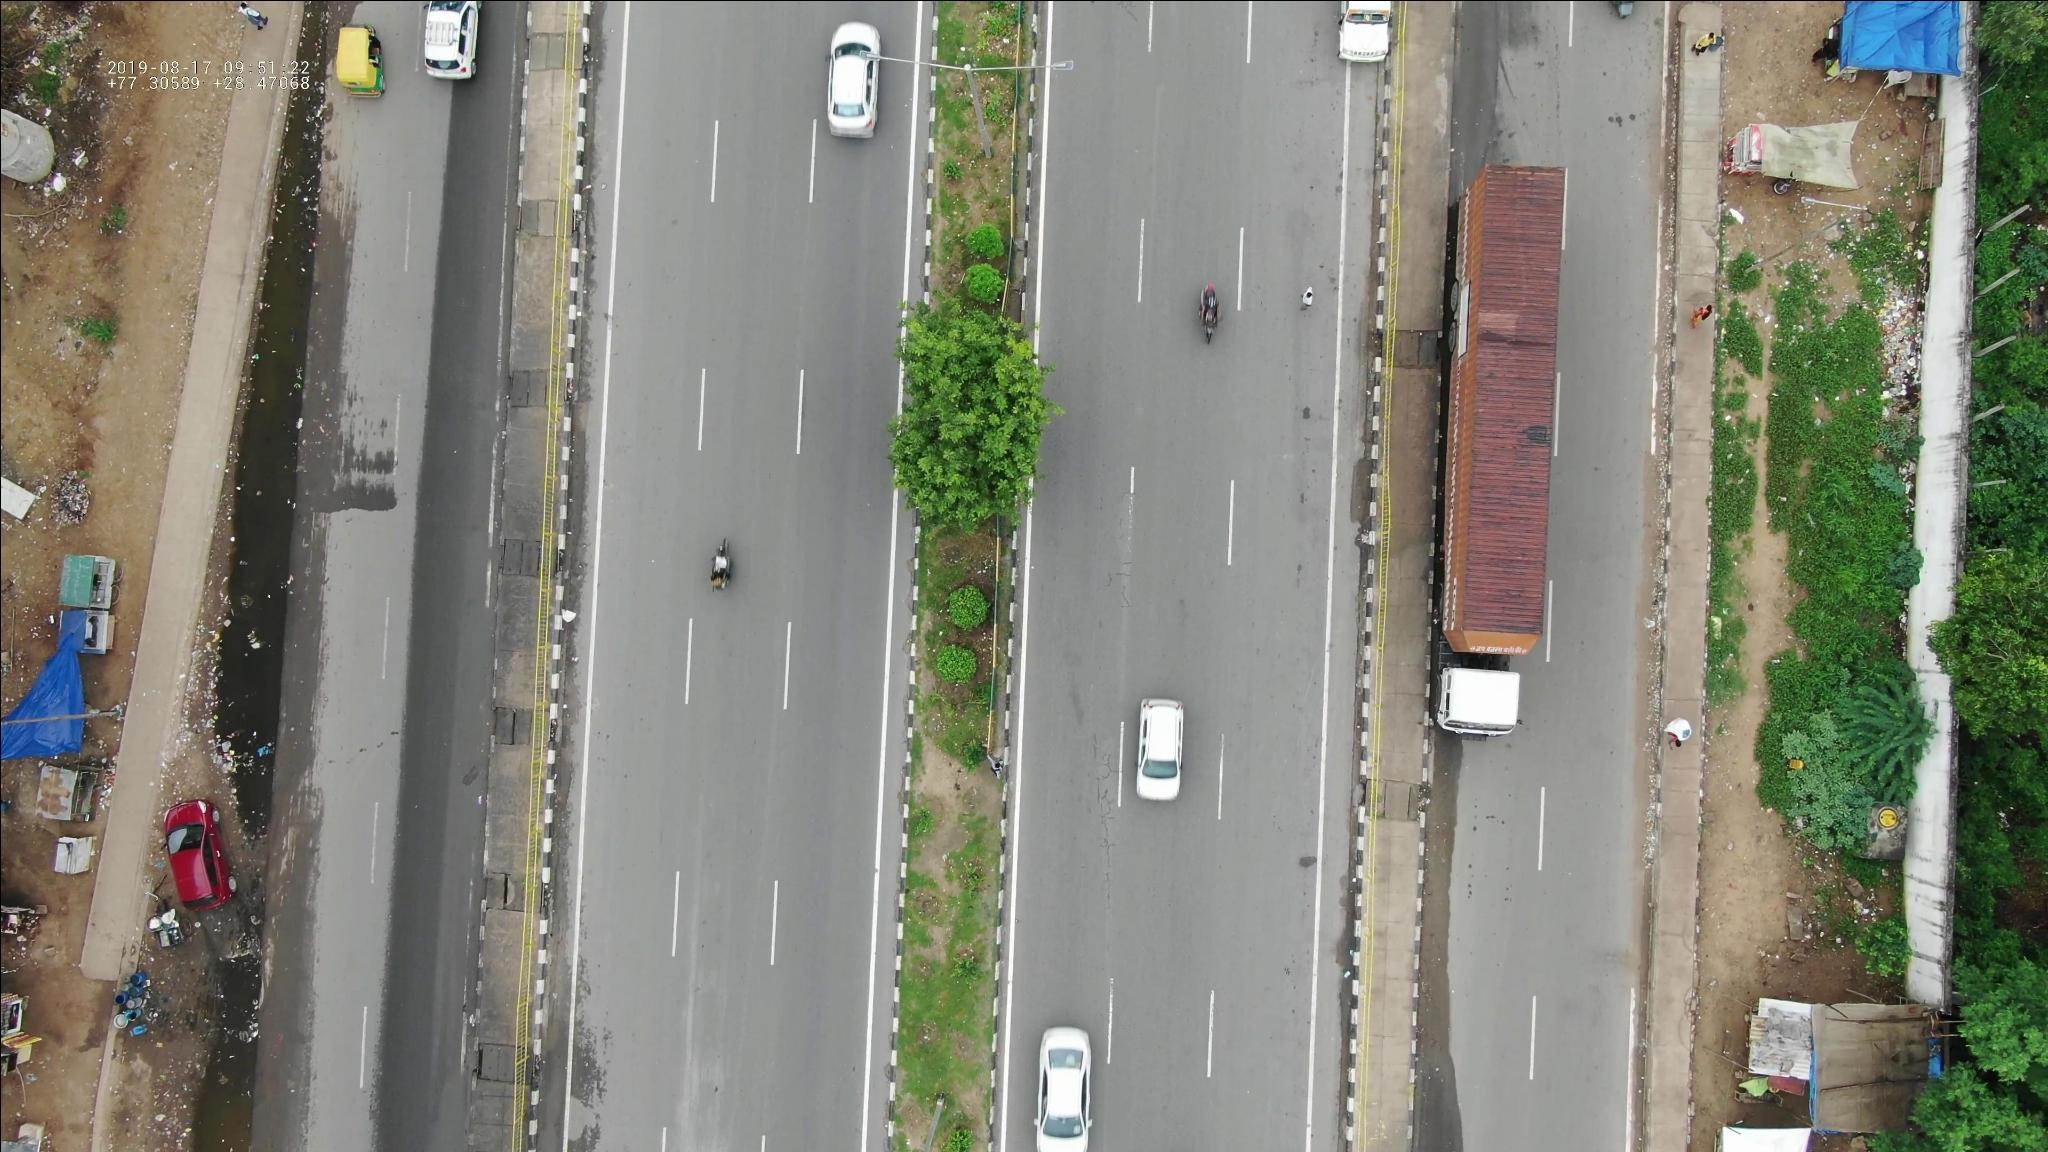Road_side_garbage: (1851, 266, 1933, 443)
Waterlogging: (224, 257, 314, 556), (211, 558, 291, 812), (257, 6, 339, 243), (188, 958, 263, 1152)
